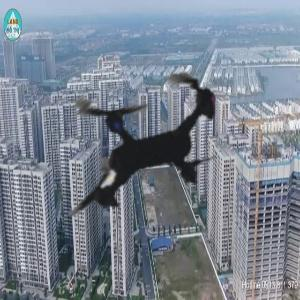drone: (4, 2, 284, 282)
